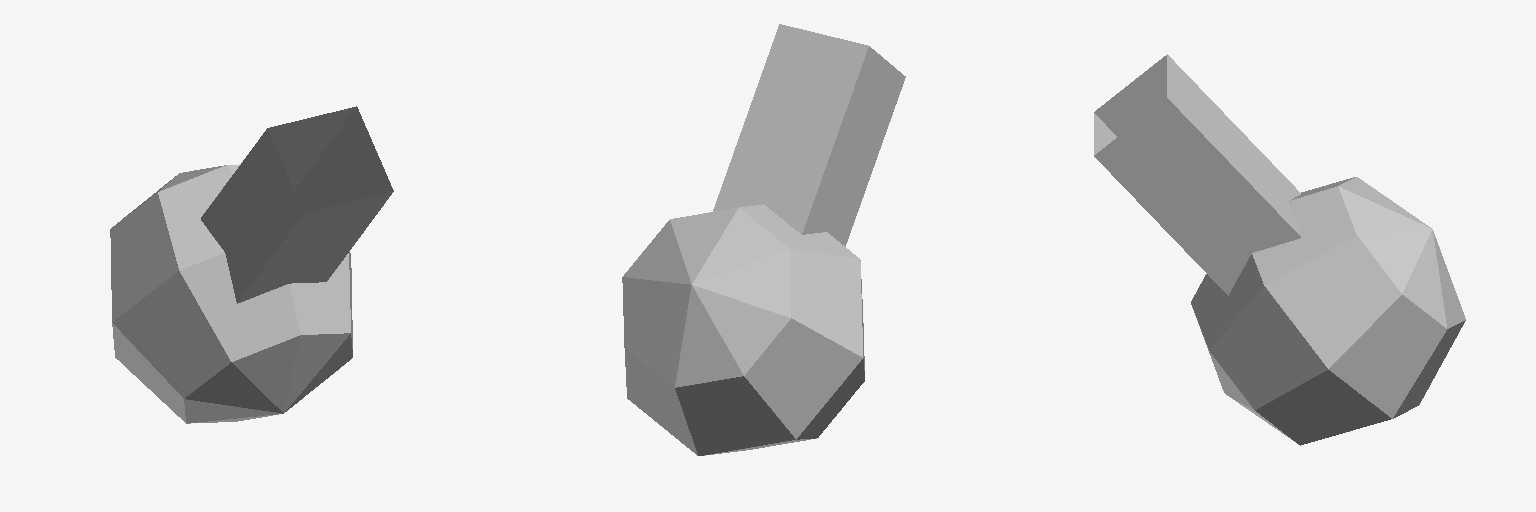
Rendered from piraka nek.obj.
3 views of the same model, side by side, from view 1: azimuth 30°, elevation 25°; view 2: azimuth 150°, elevation 25°; view 3: azimuth 270°, elevation 25° (orthographic).
Visible parts, largest first — view 1: Reidak.reidak.smd.mesh_1.009; view 2: Reidak.reidak.smd.mesh_1.009; view 3: Reidak.reidak.smd.mesh_1.009.
Boxes of the visible parts, box(x1,y1,x2,y2) form: Reidak.reidak.smd.mesh_1.009: box(110, 106, 393, 423); Reidak.reidak.smd.mesh_1.009: box(622, 24, 905, 455); Reidak.reidak.smd.mesh_1.009: box(1094, 54, 1465, 445).
Size of the model in its own units: 0.9358 by 1.35 by 1.26.